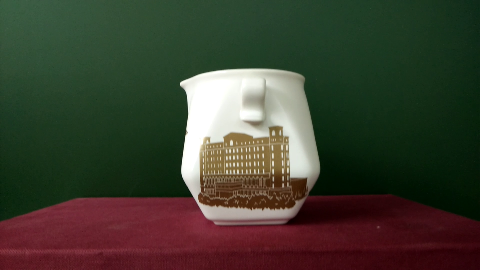law: (205, 146, 293, 206)
